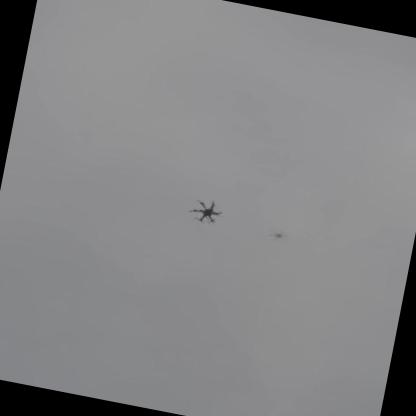drone: (185, 193, 225, 225)
